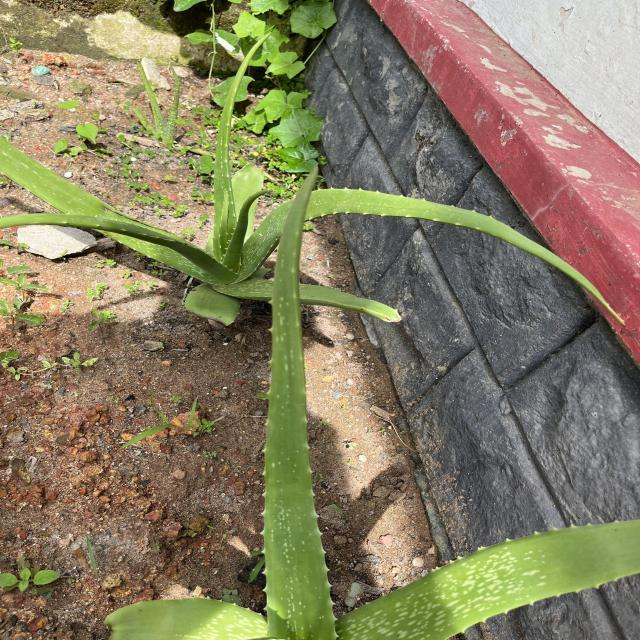Aloe vera: (260, 163, 336, 640), (213, 31, 275, 261)
